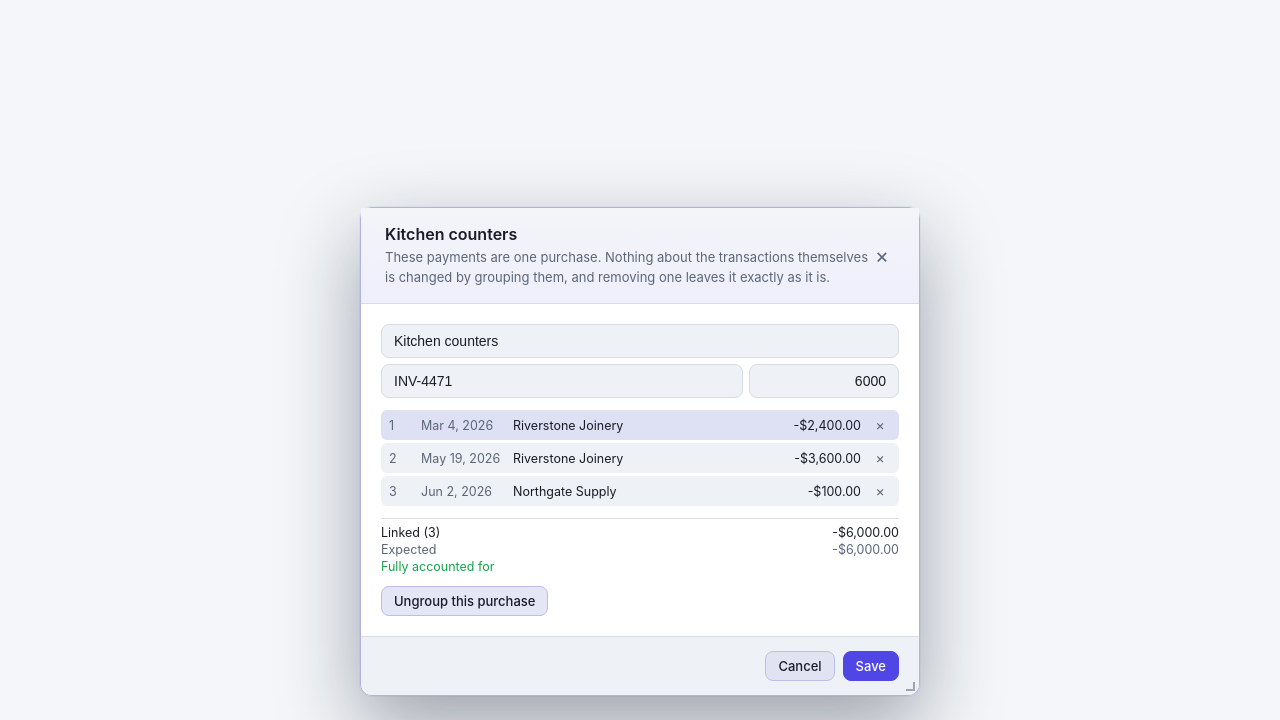
Test: repairing a purchase › does not warn about ungrouping when enough payments remain
This screenshot has width=1280, height=720.
Expected: the text "Kitchen counters" is shown, left=385, top=224, right=517, bottom=244
Step 1. Click the button named "Remove this payment from the purchase" → (880, 425), box left=869, top=414, right=891, bottom=436
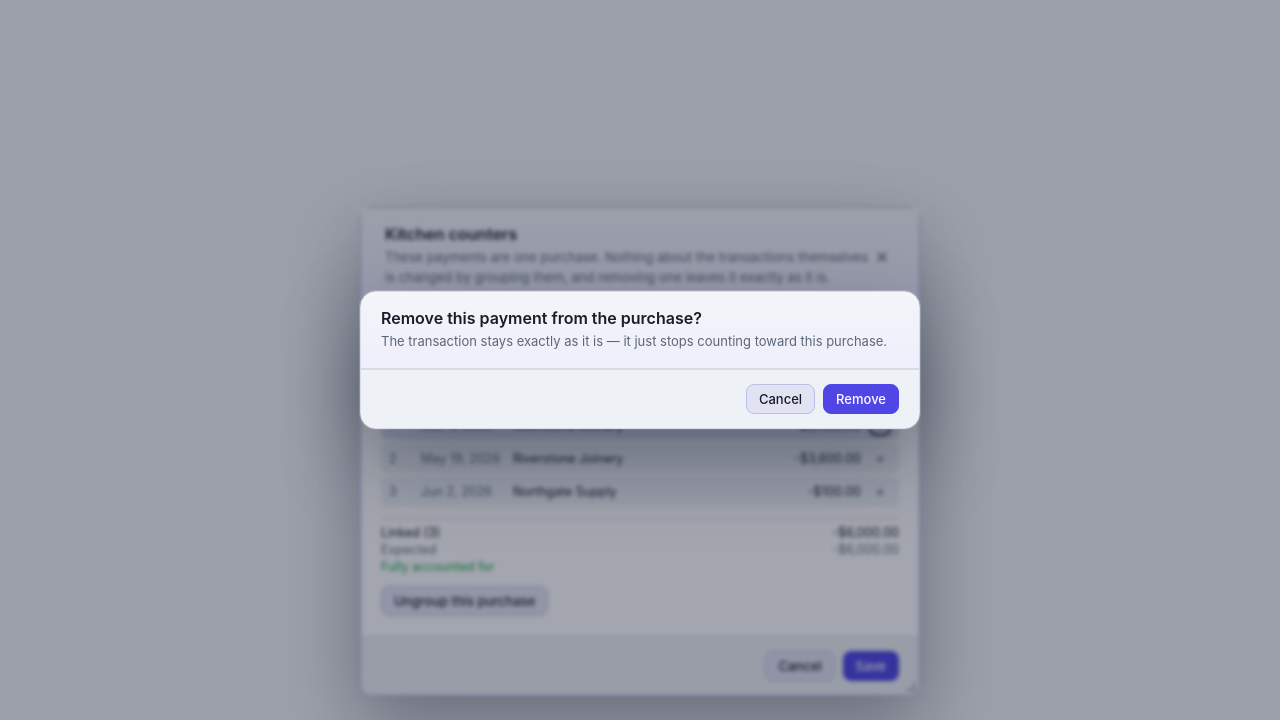
Expected: the text "stops counting toward this purchase" is shown, left=381, top=333, right=887, bottom=349
